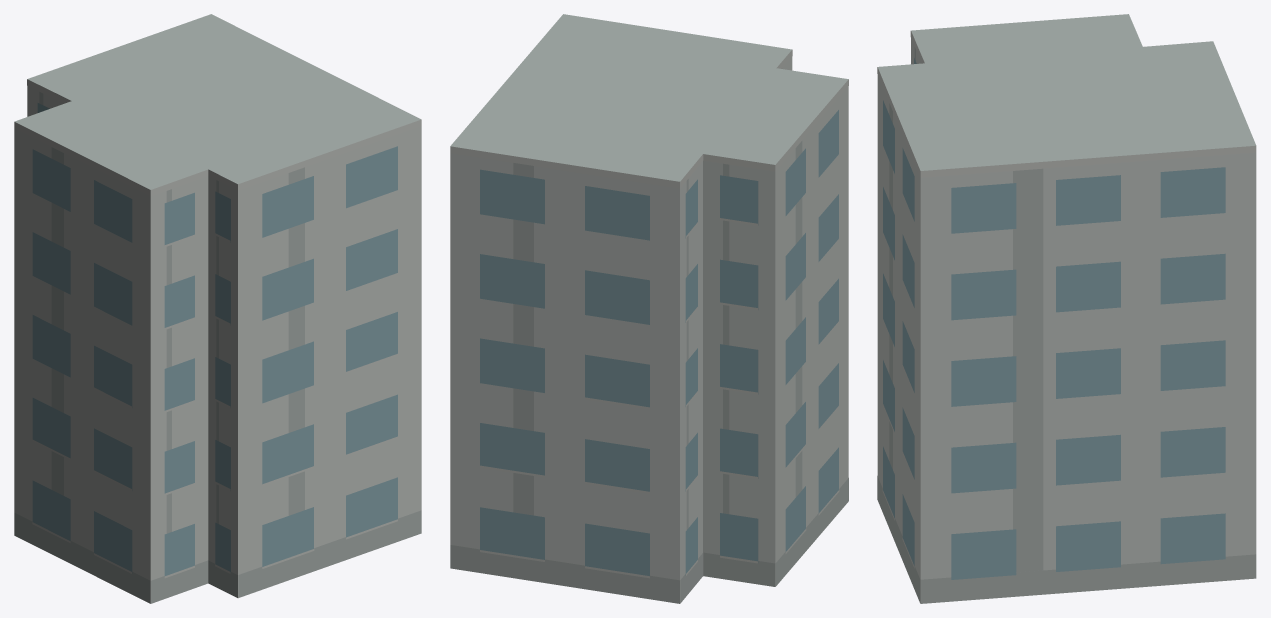
File: survey-upis-32765604.glb
3 views of the same model, side by side, from view 1: azimuth 30°, elevation 25°; view 2: azimuth 150°, elevation 25°; view 3: azimuth 270°, elevation 25° (orthographic). The views are drawn at different scales.
Visible parts, largest first — view 1: survey-upis-32765604.tmp; view 2: survey-upis-32765604.tmp; view 3: survey-upis-32765604.tmp.
Boxes of the visible parts, <box> form: survey-upis-32765604.tmp: <box>14,14,421,603</box>; survey-upis-32765604.tmp: <box>450,14,848,603</box>; survey-upis-32765604.tmp: <box>877,14,1256,603</box>.
Bounding box in the file's own units: 11.88 × 15.25 × 12.11.
